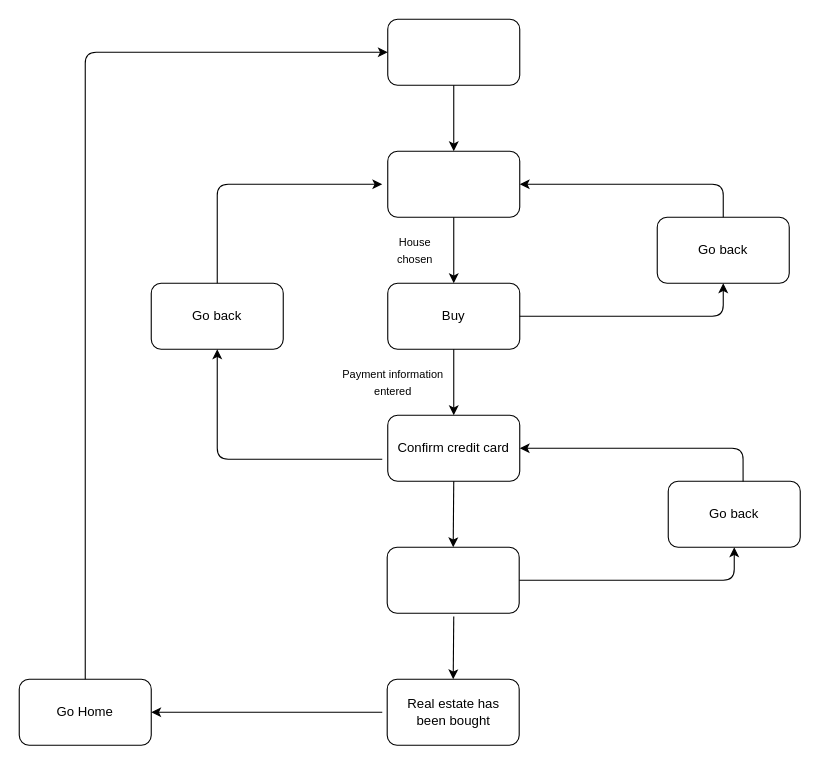
This 820x765 diagram has some shape labels left out. The box of each missing label's shape, as (x1, y1, x2, y2) in pixels:
Apartments: (387, 150, 520, 217)
Confirm purchase: (386, 546, 519, 613)
Home: (387, 18, 520, 85)
